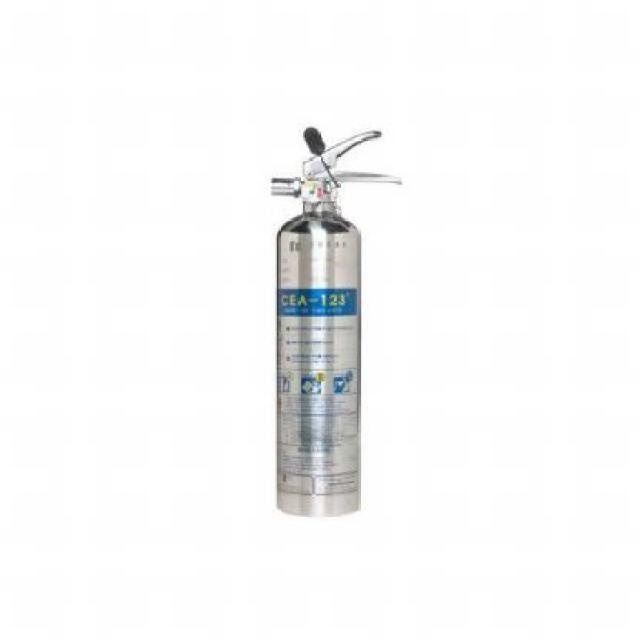fire extinguisher: (270, 125, 402, 517)
